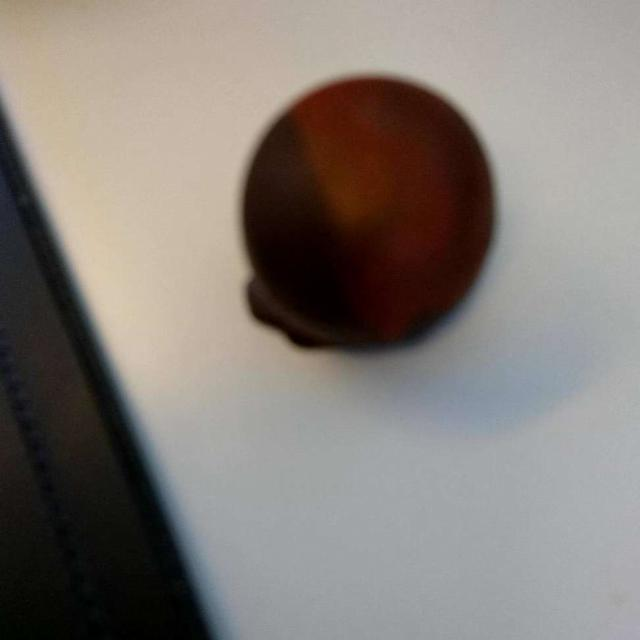chocolate: (240, 83, 496, 345)
